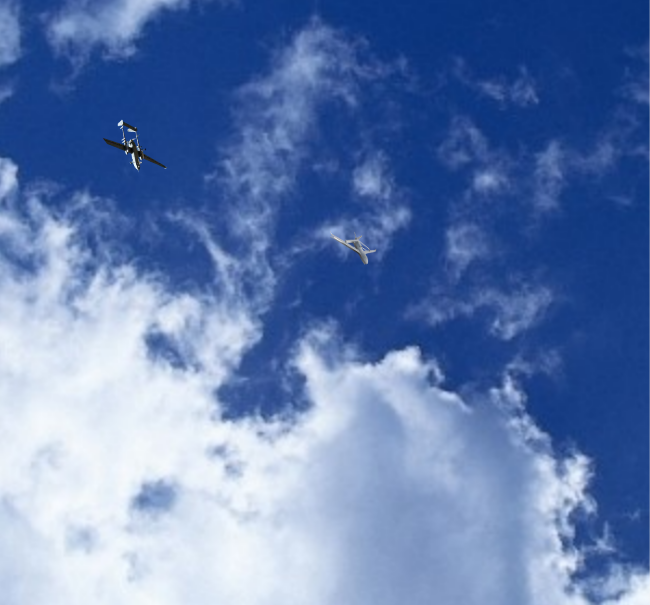military drone: (102, 119, 166, 172), (329, 228, 376, 265)
